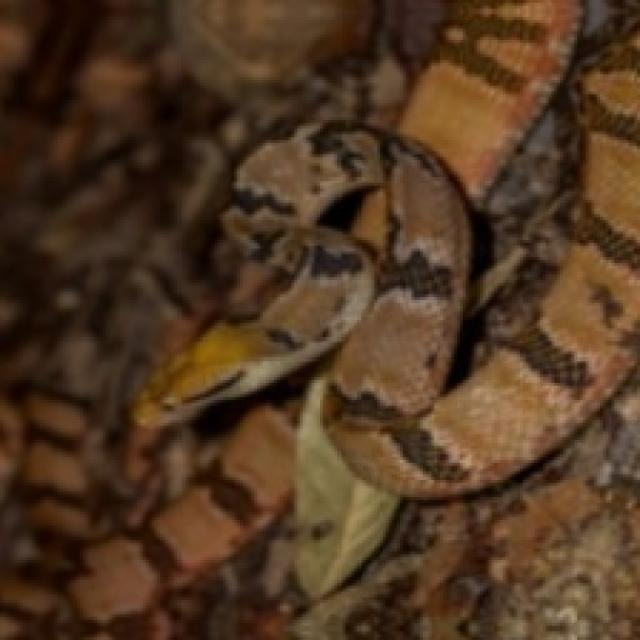dog-toothed cat snake: (134, 0, 637, 591)
